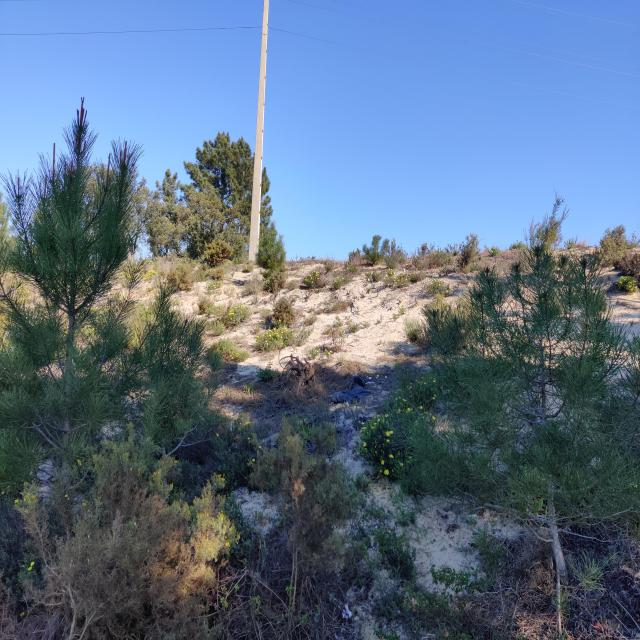litter: (328, 370, 375, 408), (337, 600, 355, 624)
